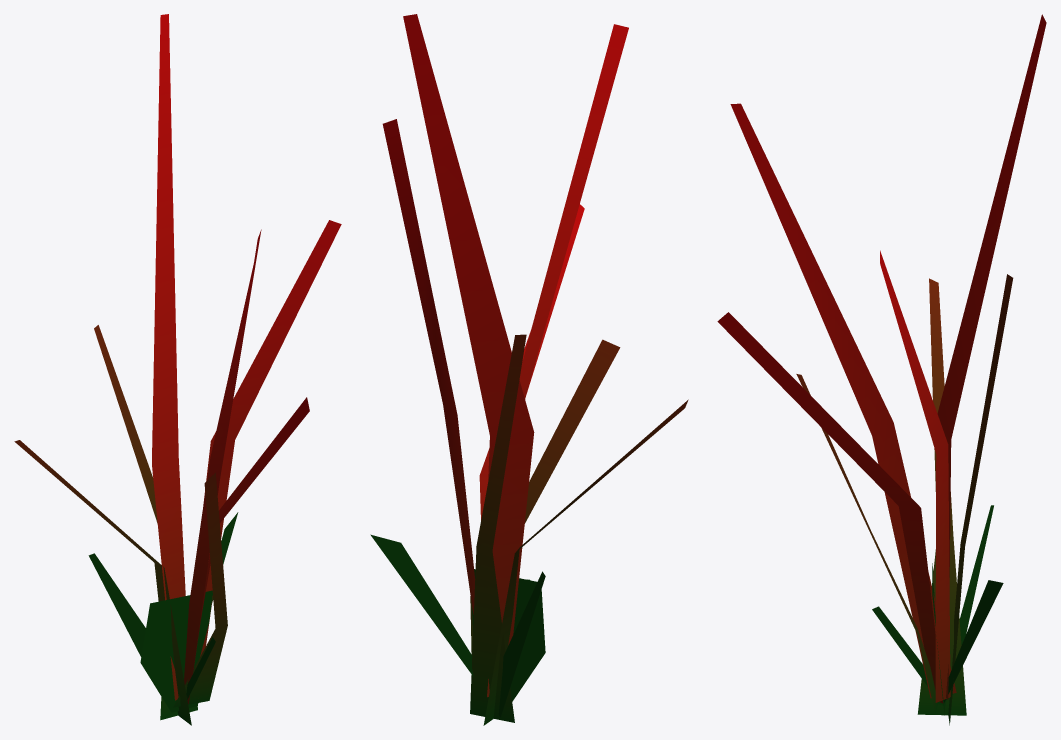
File: Desert Grass_LOD1_Var1_scpho.fbx
3 views of the same model, side by side, from view 1: azimuth 30°, elevation 25°; view 2: azimuth 150°, elevation 25°; view 3: azimuth 270°, elevation 25° (orthographic). The views are drawn at different scales.
Parts seen in each view (by area): view 1: _93fd_Var1_LOD1; view 2: _93fd_Var1_LOD1; view 3: _93fd_Var1_LOD1.
Part boxes in pixels (left/top/right/bottom): _93fd_Var1_LOD1: left=14, top=14, right=341, bottom=725; _93fd_Var1_LOD1: left=370, top=14, right=688, bottom=725; _93fd_Var1_LOD1: left=717, top=14, right=1046, bottom=725.
Bounding box in the file's own units: 13.35 × 28.16 × 11.75.
